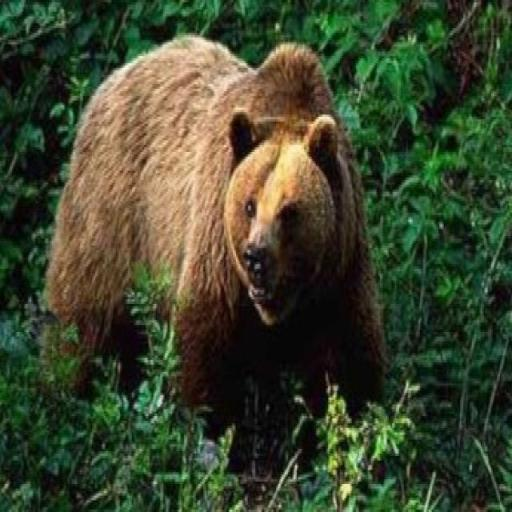Bear: (40, 30, 389, 468)
